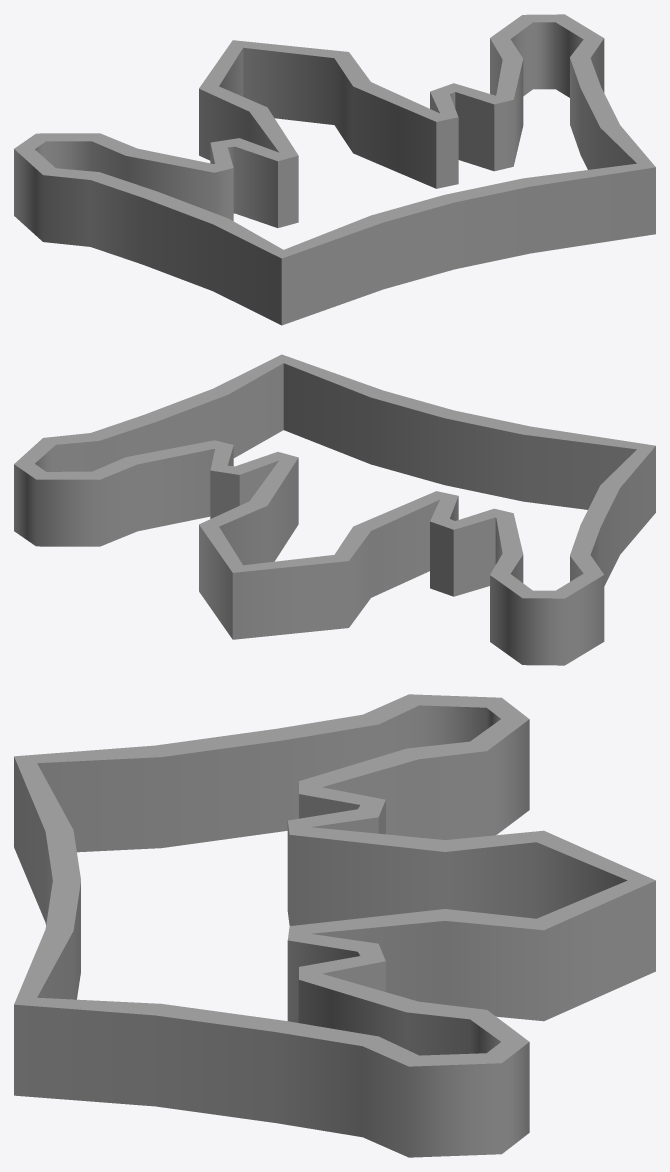
The model's file is BiscuitCutter_Crown_01.fbx.
3 renders of one model, top to bottom at view 1: azimuth 30°, elevation 25°; view 2: azimuth 150°, elevation 25°; view 3: azimuth 270°, elevation 25°, orthographic. The views are drawn at different scales.
Visible parts, largest first — view 1: BiscuitCutter_Crown_01; view 2: BiscuitCutter_Crown_01; view 3: BiscuitCutter_Crown_01.
Part boxes in pixels (x1,y1,x2,y2): BiscuitCutter_Crown_01: (14,14,655,325); BiscuitCutter_Crown_01: (14,354,655,665); BiscuitCutter_Crown_01: (14,694,655,1157).
Bounding box in the file's own units: 0.1119 × 0.0128 × 0.0816.
